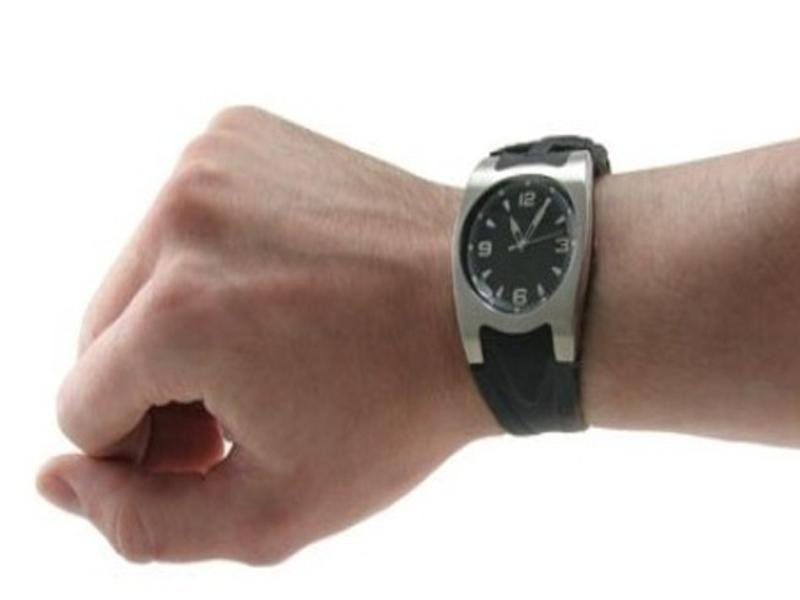watch: (451, 130, 617, 440)
